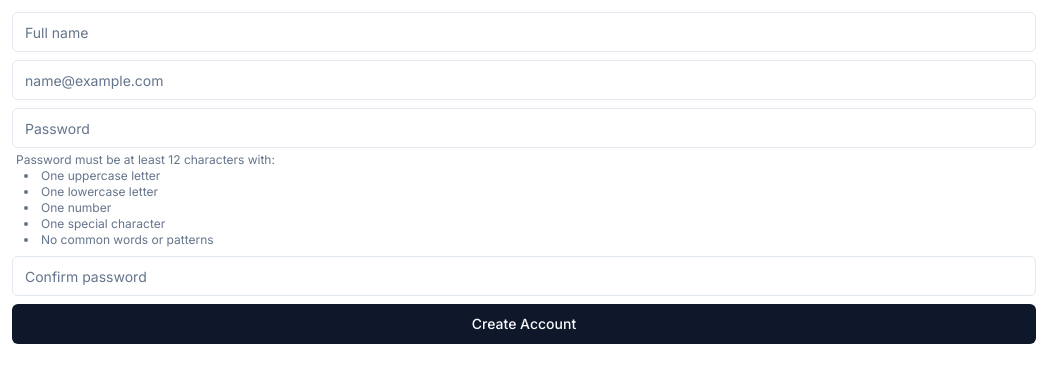
Test: UserAuthForm › Register Mode › should validate password strength in registration
Type "John Doe" into the field with placeholder "Full name" at (524, 32), box [12,12,1036,52]
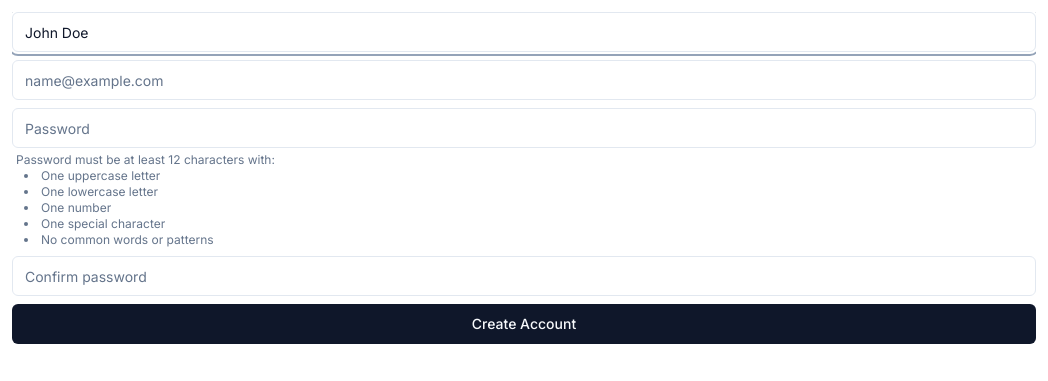
Type "test@example.com" into the field with placeholder "name@example.com" at (524, 80), box [12,60,1036,100]
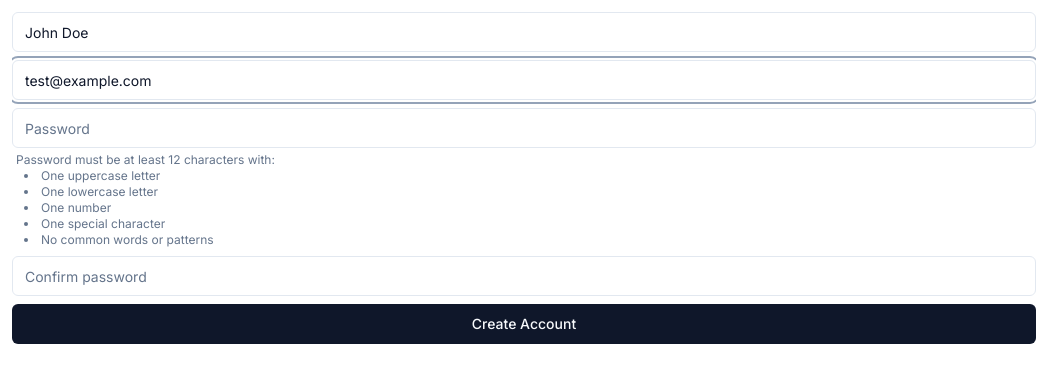
Type "weak" into the password field with placeholder "Password" at (524, 128), box [12,108,1036,148]
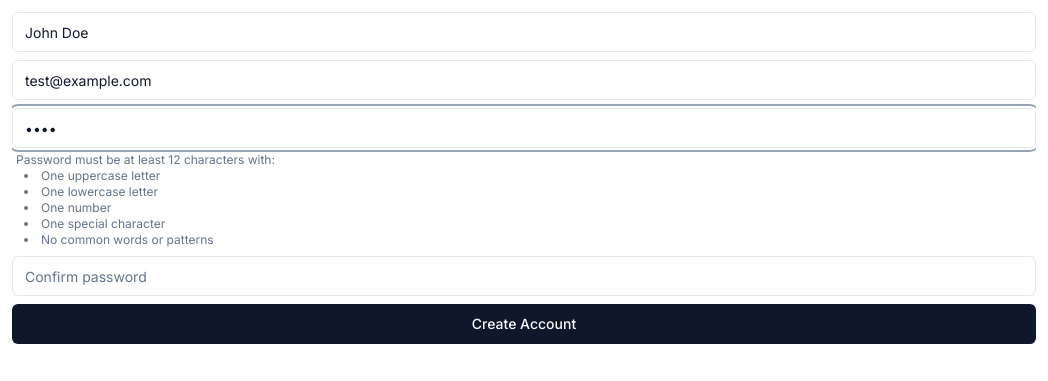
Type "weak" into the password field with placeholder "Confirm password" at (524, 276), box [12,256,1036,296]
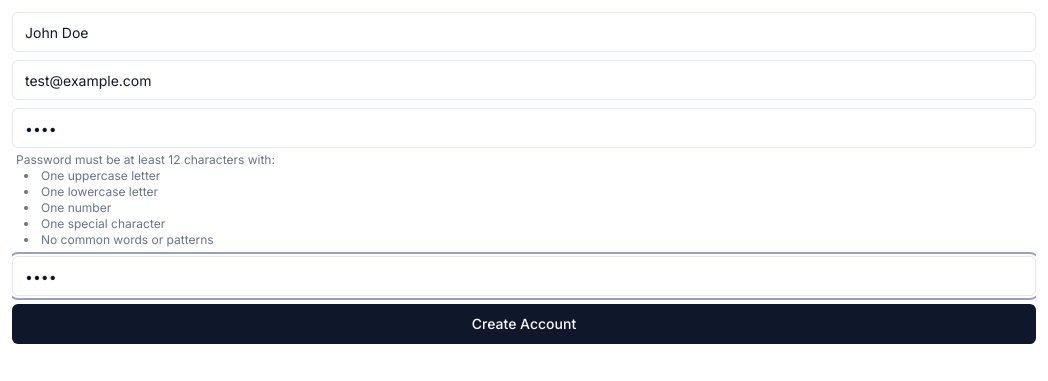
Click the button "Create Account" at (524, 324), box [12,304,1036,344]
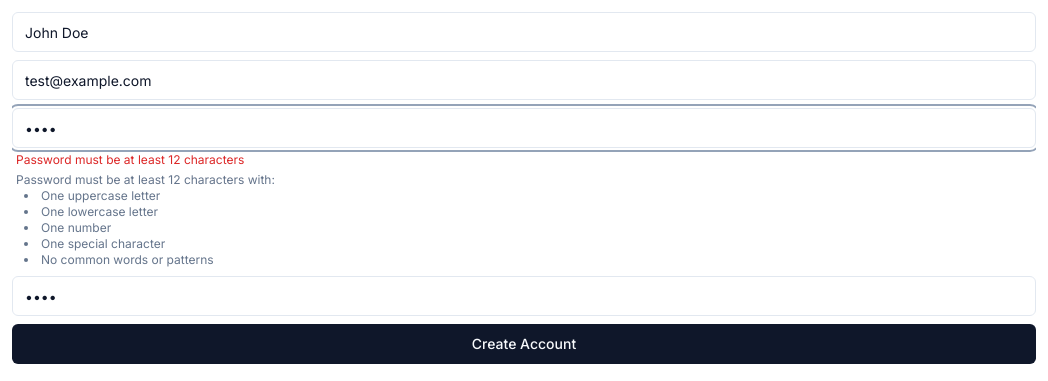
Expected: the text "Password must be at least 12 characters" is shown, [16,152,244,167]
